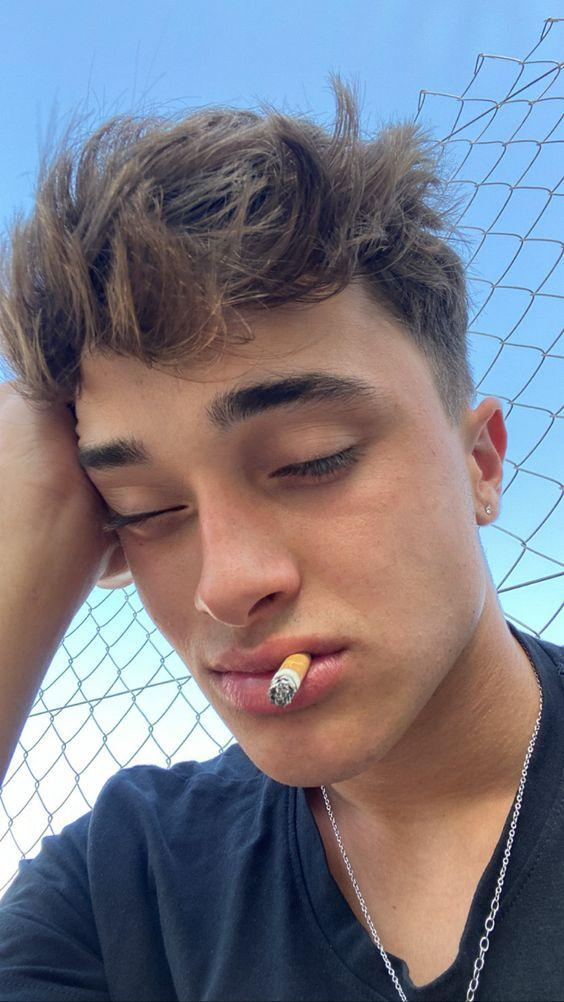cigarette: (269, 654, 313, 705)
